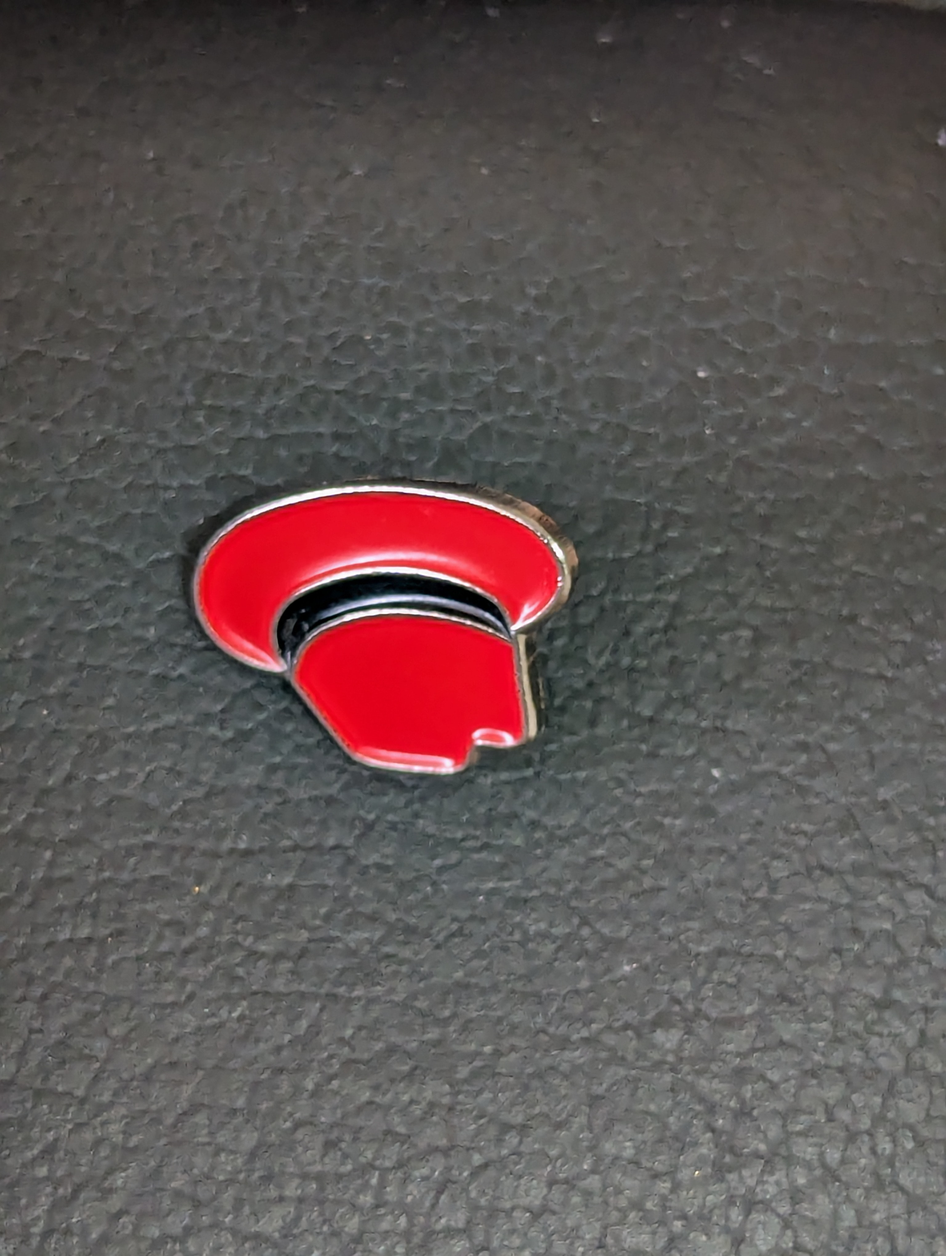Red-Hat: (106, 424, 693, 915)
